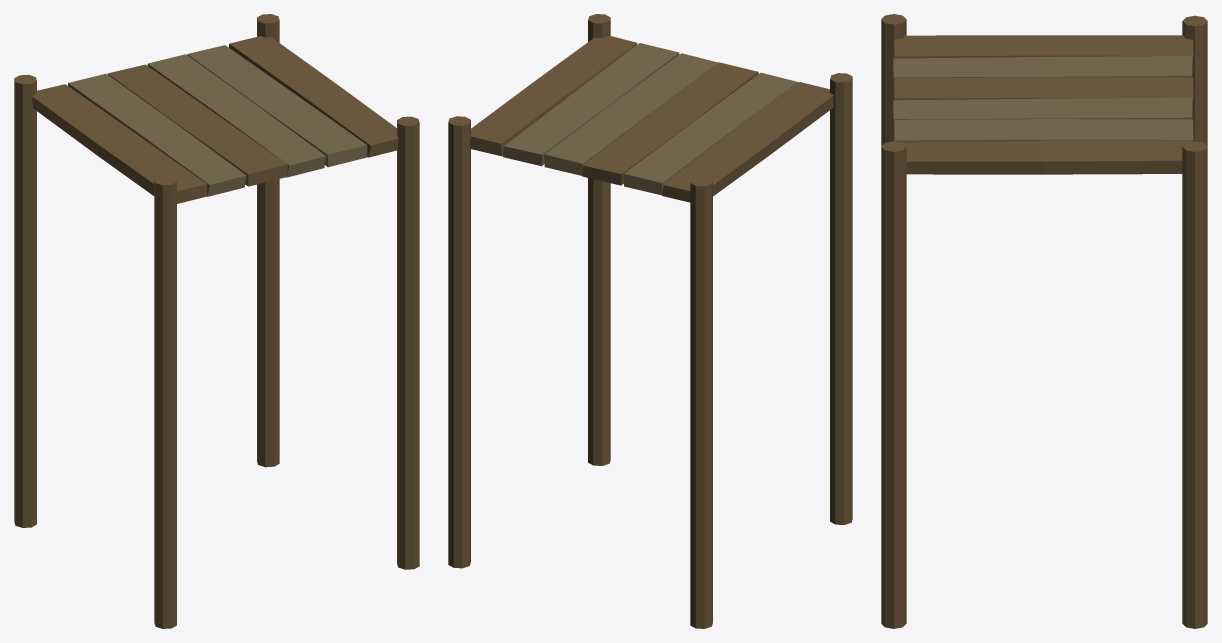
File: island_dock.fbx
The picture shows the model from 3 angles, left to right: view 1: azimuth 30°, elevation 25°; view 2: azimuth 150°, elevation 25°; view 3: azimuth 270°, elevation 25°; orthographic projection. The views are drawn at different scales.
Visible parts, largest first — view 1: dock; view 2: dock; view 3: dock.
Boxes of the visible parts, <box> form: dock: <box>14,14,419,628</box>; dock: <box>448,14,852,628</box>; dock: <box>881,14,1207,628</box>.
Bounding box in the file's own units: 2.17 × 3.51 × 2.17.
